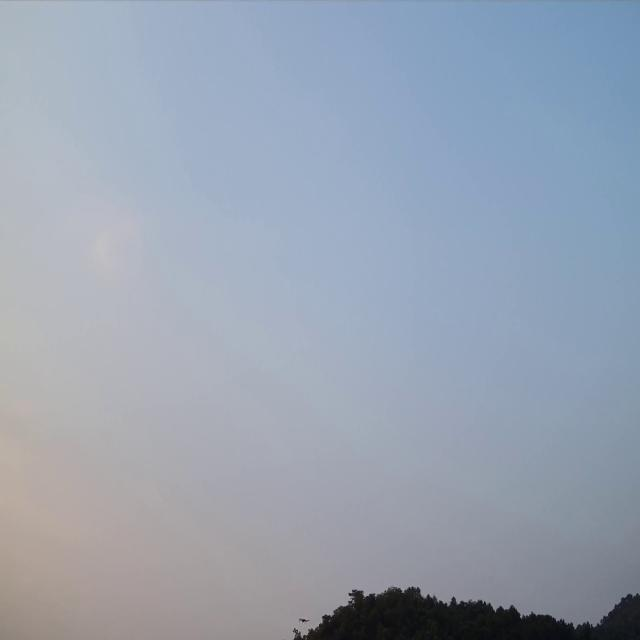UAV: (298, 617, 309, 624)
